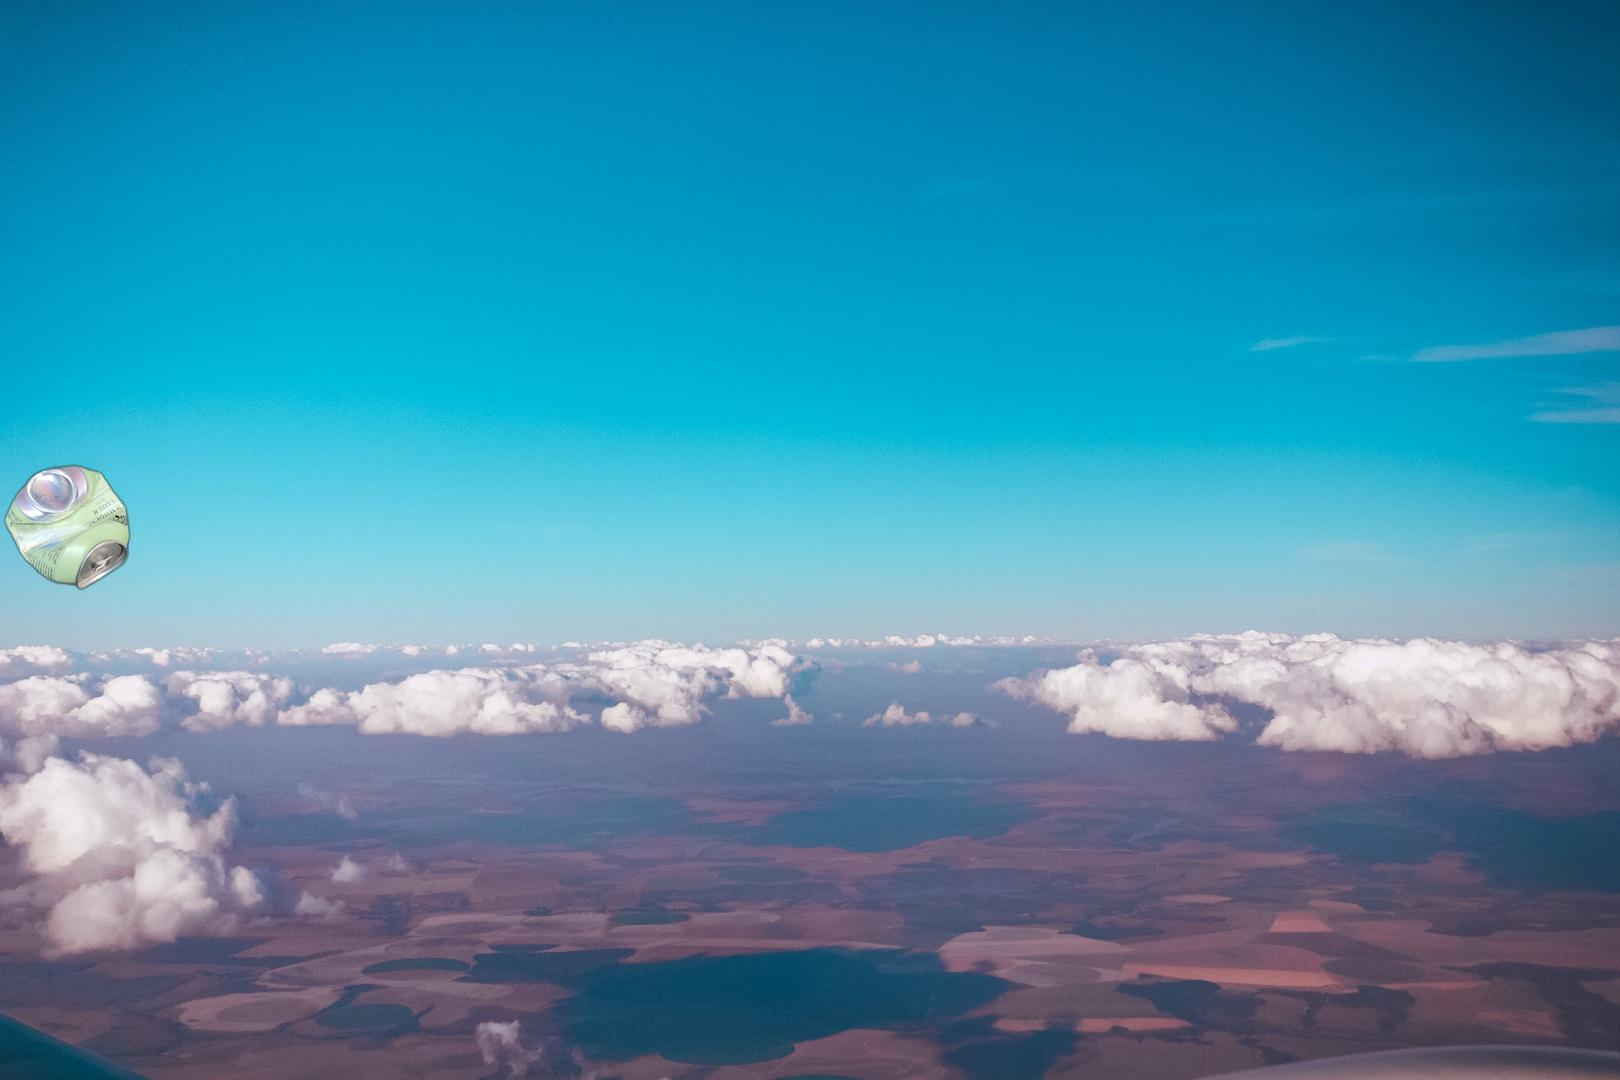metal-cans: (0, 459, 135, 595)
